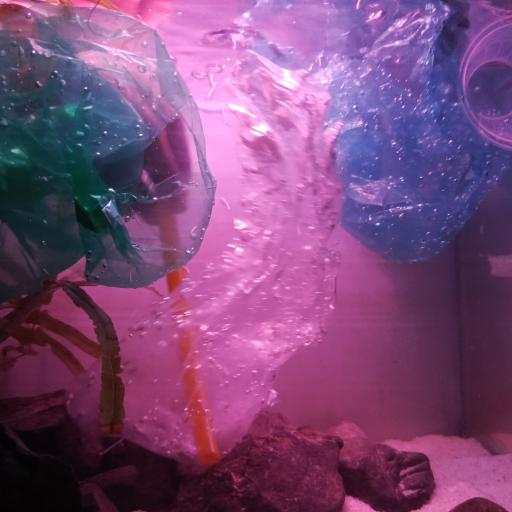plastic_bag: (70, 0, 345, 473), (240, 0, 512, 261), (0, 0, 218, 307)
plastic_cup: (457, 14, 512, 148)
plastic_straw: (153, 212, 223, 464)
